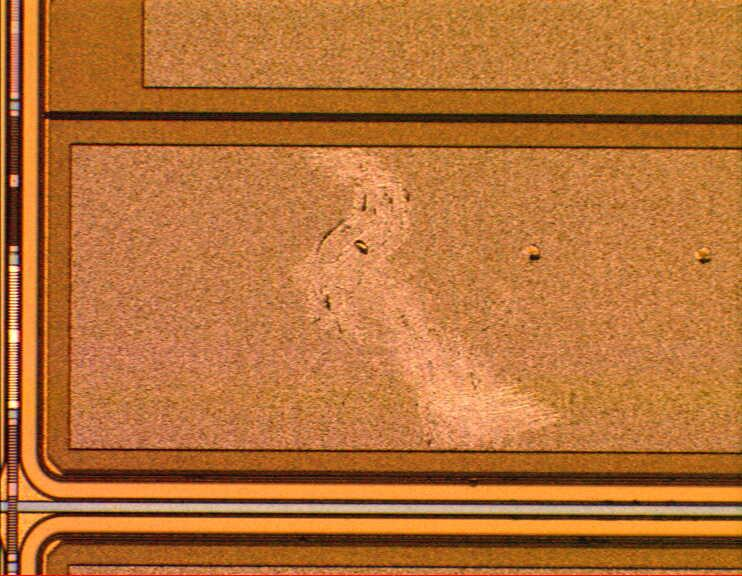SCRATCH: (282, 143, 577, 453)
